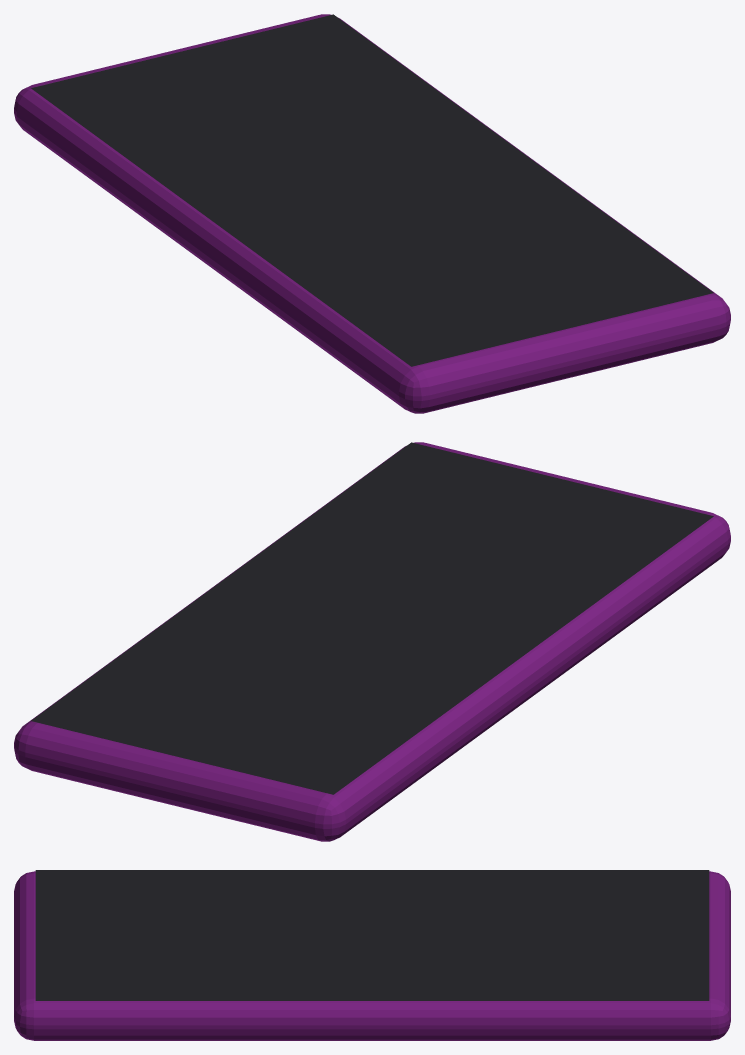
Rendered from Phone_261.glb.
3 renders of one model, top to bottom at view 1: azimuth 30°, elevation 25°; view 2: azimuth 150°, elevation 25°; view 3: azimuth 270°, elevation 25°, orthographic. The views are drawn at different scales.
Parts seen in each view (by area): view 1: Phone_Screen, Phone_Body; view 2: Phone_Screen, Phone_Body; view 3: Phone_Screen, Phone_Body.
Boxes of the visible parts, x1,y1,x2,y2 form: Phone_Screen: (31, 14, 713, 366); Phone_Body: (14, 14, 730, 413); Phone_Screen: (31, 442, 713, 794); Phone_Body: (14, 442, 730, 841); Phone_Screen: (35, 870, 709, 1000); Phone_Body: (14, 871, 730, 1040).
Bounding box in the file's own units: 0.0708 × 0.0095 × 0.1509.
